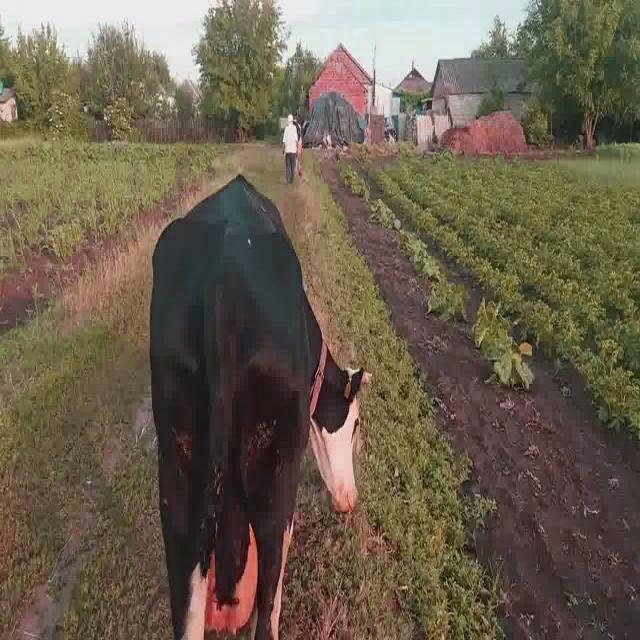cow: (150, 175, 365, 639)
